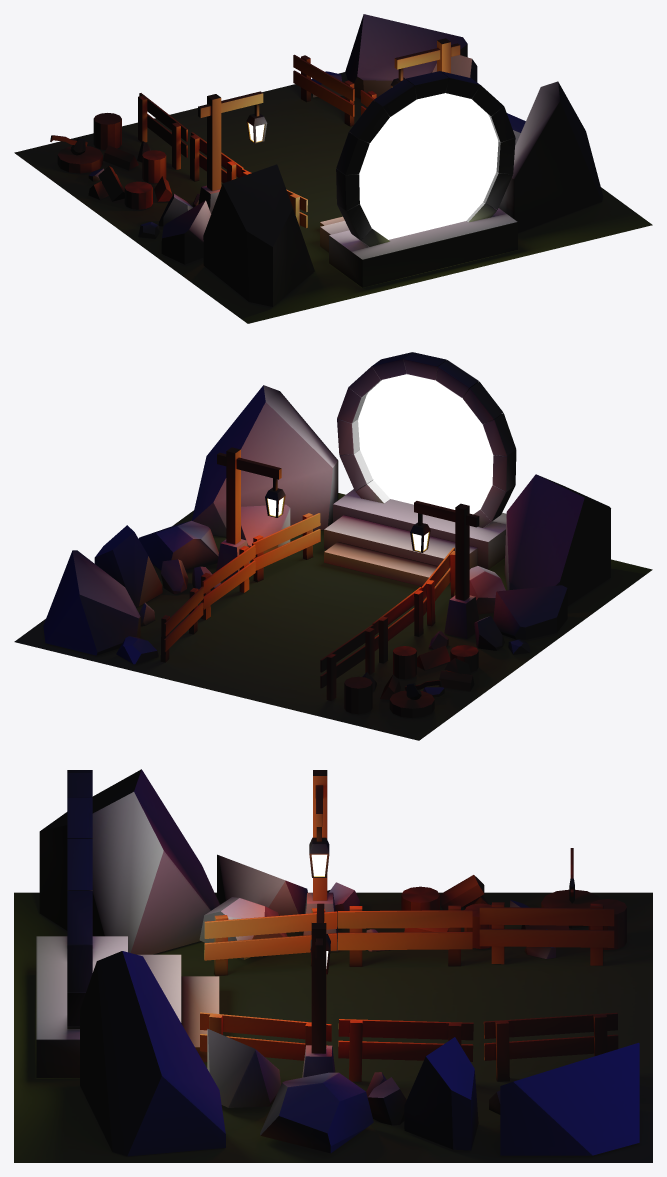
File: withVertexColor.glb
The picture shows the model from 3 angles, top to bottom: view 1: azimuth 30°, elevation 25°; view 2: azimuth 150°, elevation 25°; view 3: azimuth 270°, elevation 25°; orthographic projection. The views are drawn at different scales.
Parts seen in each view (by area): view 1: baked, portalLight; view 2: baked, portalLight; view 3: baked.
Boxes of the visible parts, x1=… form: baked: x1=14, y1=14, x2=652, y2=323; portalLight: x1=359, y1=93, x2=498, y2=239; baked: x1=14, y1=352, x2=652, y2=740; portalLight: x1=358, y1=374, x2=493, y2=514; baked: x1=14, y1=769, x2=652, y2=1162.
Size of the model in its own units: 4 by 1.72 by 4.
Materials: 3 (1 with a texture image).
